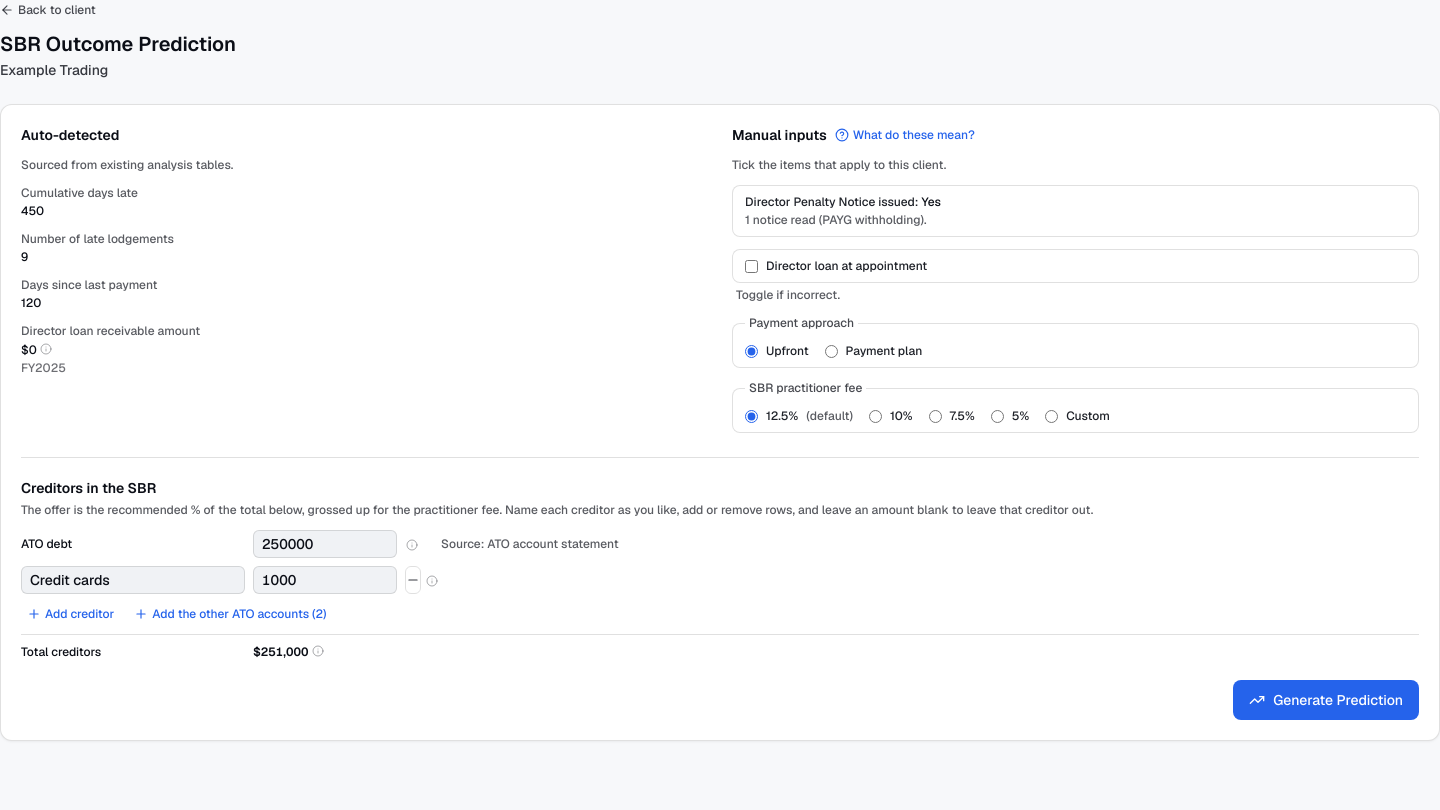
Test: Creditors in the SBR — the other ATO accounts (setting on) › offers them, not adds them, when creditors were saved before
Expected: the number of fields named "Creditor 1 name" is 1, left=21, top=566, right=245, bottom=594
Click the button "Add the other ATO accounts (2)". click: (230, 614)
box: left=128, top=602, right=332, bottom=626
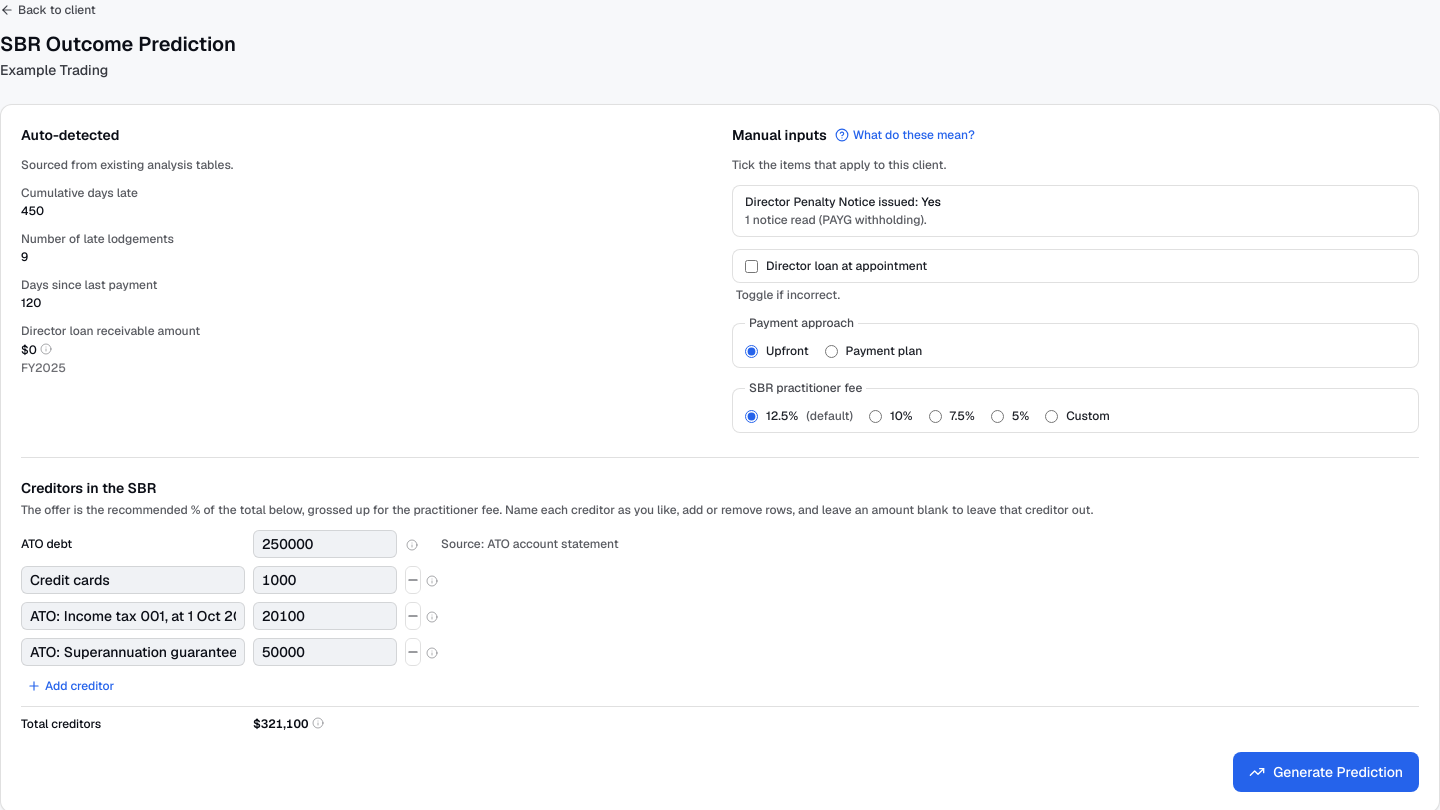
Expected: the number of fields named "Creditor 1 name" is 3, left=21, top=566, right=245, bottom=594; left=21, top=602, right=245, bottom=630; left=21, top=638, right=245, bottom=666
Expected: the button "Add the other ATO accounts" is gone
